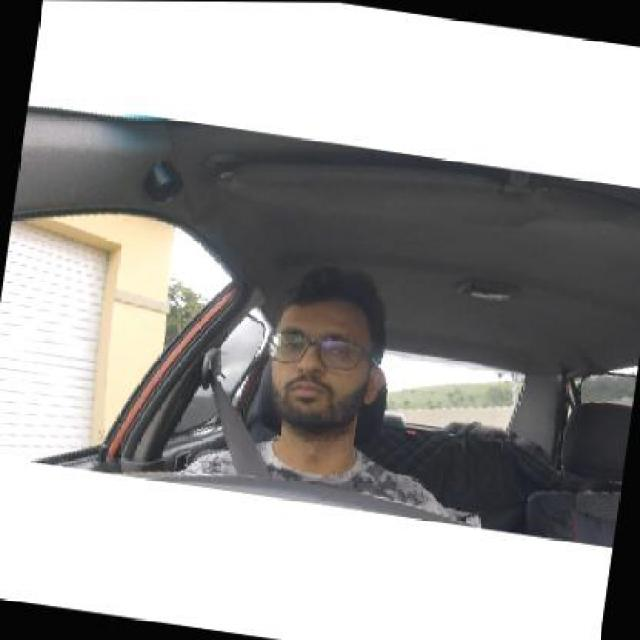person: (276, 286, 387, 418)
